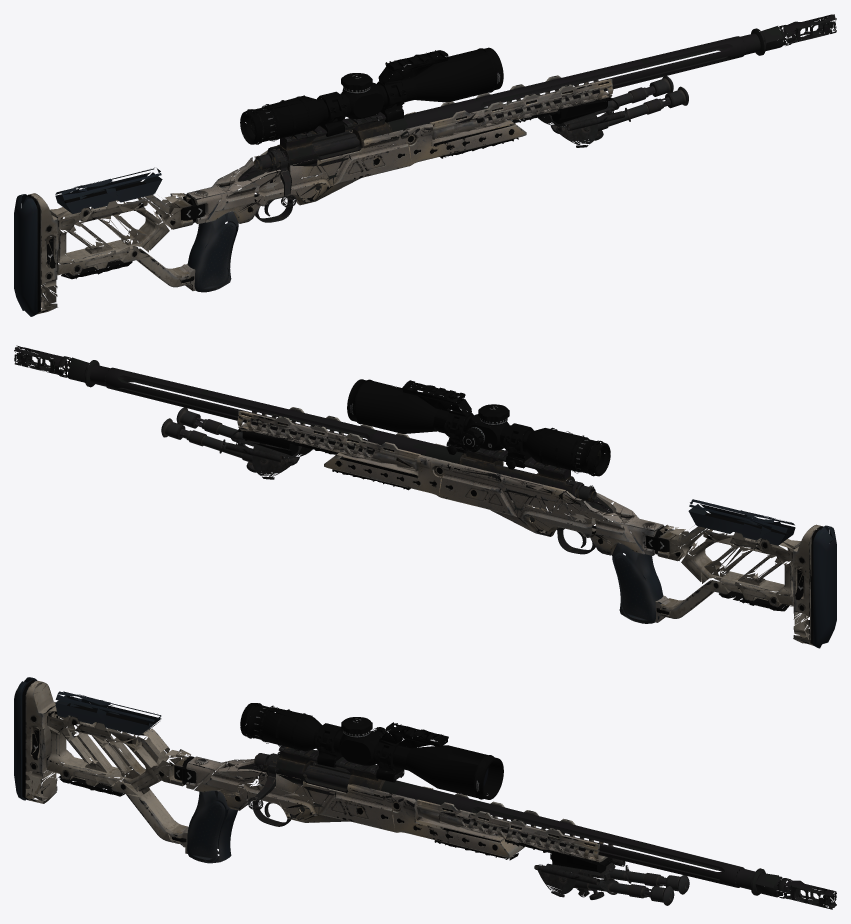
File: m40a3-sniper-rifle.glb
3 renders of one model, top to bottom at view 1: azimuth 30°, elevation 25°; view 2: azimuth 150°, elevation 25°; view 3: azimuth 330°, elevation 25°, orthographic.
Parts seen in each view (by area): view 1: mtl_wpn_h1_sni_m40a3_asn_receiver_camo_mtl_wpn_h1_sni_m40a3_, mtl_wpn_h1_sni_m40a3_asn_stock_camo_mtl_wpn_h1_sni_m40a3_asn, mtl_wpn_h1_sni_m40a3_asn_scope_mtl_wpn_h1_sticker_placeholde, mtl_wpn_h1_sni_m40a3_receiver_camo_mtl_wpn_h1_sni_m40a3_rece, mtl_wpn_h1_sni_m21_bipod; view 2: mtl_wpn_h1_sni_m40a3_asn_receiver_camo_mtl_wpn_h1_sni_m40a3_, mtl_wpn_h1_sni_m40a3_asn_stock_camo_mtl_wpn_h1_sni_m40a3_asn, mtl_wpn_h1_sni_m40a3_asn_scope_mtl_wpn_h1_sticker_placeholde, mtl_wpn_h1_sni_m40a3_receiver_camo_mtl_wpn_h1_sni_m40a3_rece, mtl_wpn_h1_sni_m21_bipod; view 3: mtl_wpn_h1_sni_m40a3_asn_receiver_camo_mtl_wpn_h1_sni_m40a3_, mtl_wpn_h1_sni_m40a3_asn_stock_camo_mtl_wpn_h1_sni_m40a3_asn, mtl_wpn_h1_sni_m40a3_asn_scope_mtl_wpn_h1_sticker_placeholde, mtl_wpn_h1_sni_m40a3_receiver_camo_mtl_wpn_h1_sni_m40a3_rece, mtl_wpn_h1_sni_m21_bipod.
Boxes of the visible parts, x1,y1,x2,y2 form: mtl_wpn_h1_sni_m40a3_asn_receiver_camo_mtl_wpn_h1_sni_m40a3_: (179,14,836,292); mtl_wpn_h1_sni_m40a3_asn_stock_camo_mtl_wpn_h1_sni_m40a3_asn: (14,167,204,316); mtl_wpn_h1_sni_m40a3_asn_scope_mtl_wpn_h1_sticker_placeholde: (240,47,503,144); mtl_wpn_h1_sni_m40a3_receiver_camo_mtl_wpn_h1_sni_m40a3_rece: (238,109,400,222); mtl_wpn_h1_sni_m21_bipod: (538,76,688,147); mtl_wpn_h1_sni_m40a3_asn_receiver_camo_mtl_wpn_h1_sni_m40a3_: (14,345,670,623); mtl_wpn_h1_sni_m40a3_asn_stock_camo_mtl_wpn_h1_sni_m40a3_asn: (646,499,836,648); mtl_wpn_h1_sni_m40a3_asn_scope_mtl_wpn_h1_sticker_placeholde: (347,379,610,476); mtl_wpn_h1_sni_m40a3_receiver_camo_mtl_wpn_h1_sni_m40a3_rece: (447,444,612,554); mtl_wpn_h1_sni_m21_bipod: (161,407,312,479); mtl_wpn_h1_sni_m40a3_asn_receiver_camo_mtl_wpn_h1_sni_m40a3_: (180,754,836,909); mtl_wpn_h1_sni_m40a3_asn_stock_camo_mtl_wpn_h1_sni_m40a3_asn: (14,677,204,843); mtl_wpn_h1_sni_m40a3_asn_scope_mtl_wpn_h1_sticker_placeholde: (240,703,503,799); mtl_wpn_h1_sni_m40a3_receiver_camo_mtl_wpn_h1_sni_m40a3_rece: (238,745,403,826); mtl_wpn_h1_sni_m21_bipod: (534,858,689,905).
Bounding box in the file's own units: 1.1 × 0.2306 × 0.0813.
Materials: 5 (5 with a texture image).
